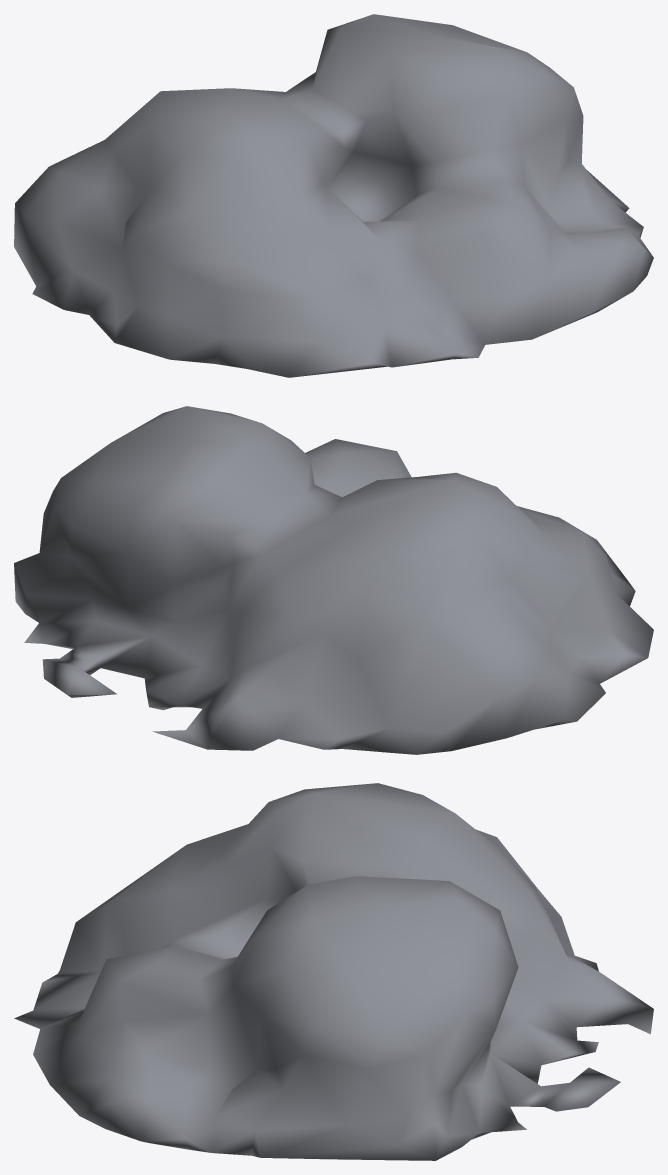
The picture shows the model from 3 angles, top to bottom: view 1: azimuth 30°, elevation 25°; view 2: azimuth 150°, elevation 25°; view 3: azimuth 270°, elevation 25°; orthographic projection. The views are drawn at different scales.
Parts seen in each view (by area): view 1: 둥근 강돌 무리; view 2: 둥근 강돌 무리; view 3: 둥근 강돌 무리.
Boxes of the visible parts, x1,y1,x2,y2 form: 둥근 강돌 무리: [14, 14, 653, 377]; 둥근 강돌 무리: [14, 406, 653, 754]; 둥근 강돌 무리: [14, 783, 653, 1160].
Bounding box in the file's own units: 0.8251 × 0.278 × 0.8124.
1 material, 1 textured.
